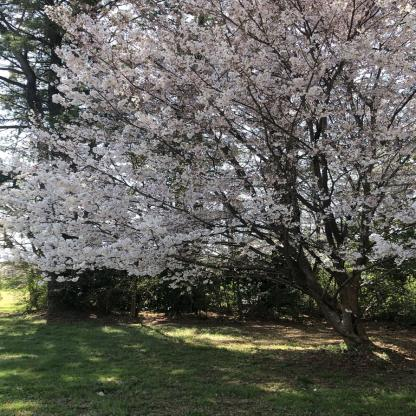Someiyoshino: (4, 4, 414, 275)
